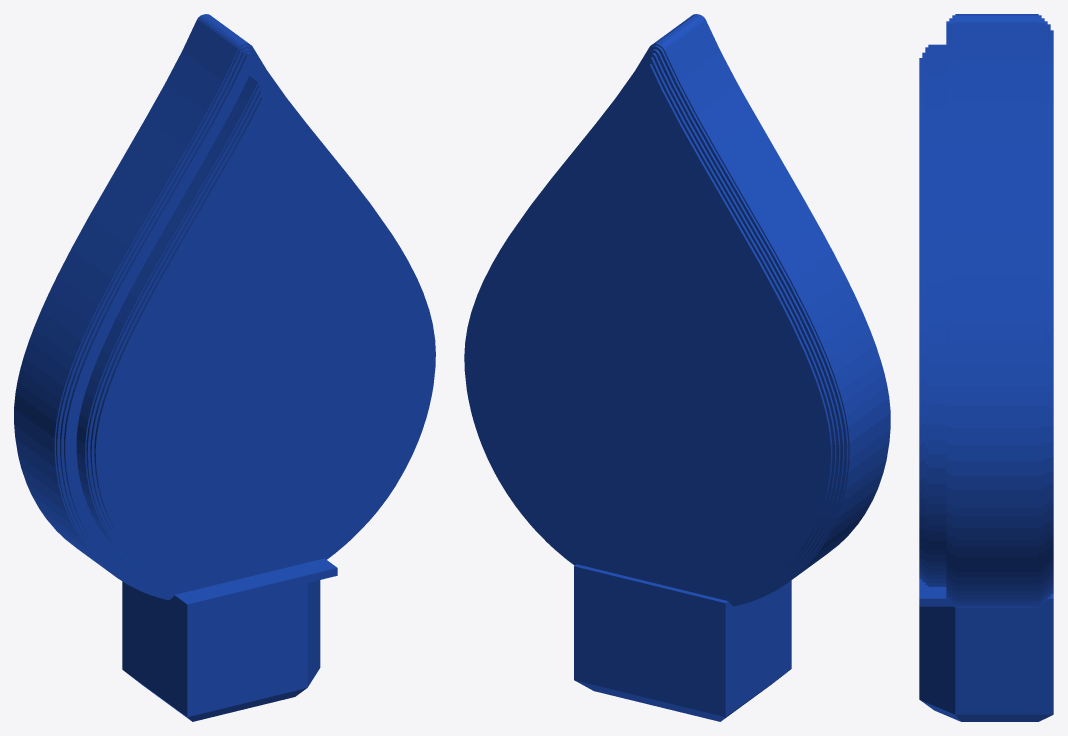
File: glyph-water@water.glb
The picture shows the model from 3 angles, left to right: view 1: azimuth 30°, elevation 25°; view 2: azimuth 150°, elevation 25°; view 3: azimuth 270°, elevation 25°; orthographic projection. The views are drawn at different scales.
Visible parts, largest first — view 1: geometry_0; view 2: geometry_0; view 3: geometry_0.
Part boxes in pixels (left/top/right/bottom): geometry_0: left=14, top=14, right=435, bottom=721; geometry_0: left=464, top=14, right=890, bottom=721; geometry_0: left=919, top=14, right=1053, bottom=721.
Bounding box in the file's own units: 15.21 × 25.01 × 4.5.
